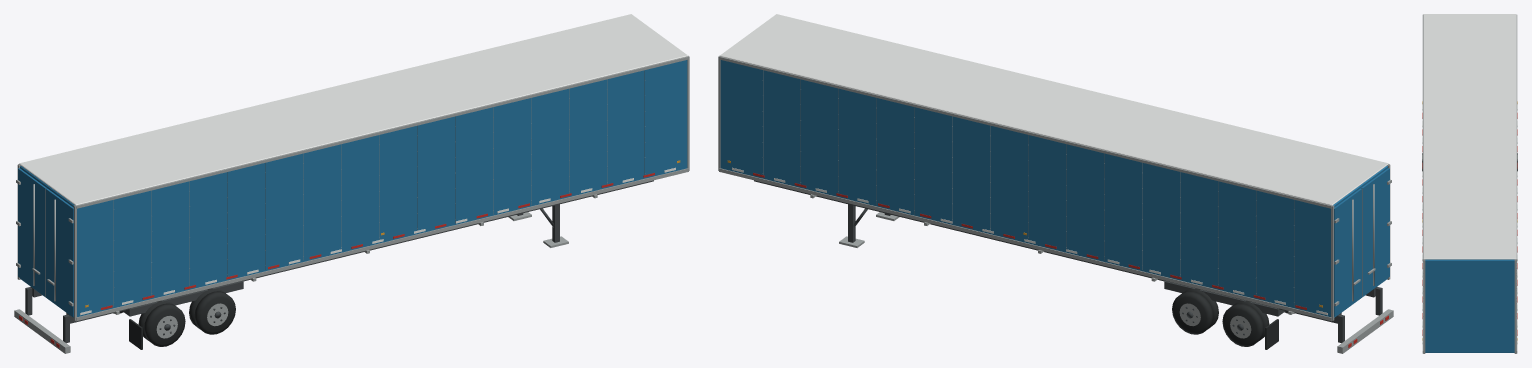
The model's file is SM_MPR3_Trailer_Blue.fbx.
The picture shows the model from 3 angles, left to right: view 1: azimuth 30°, elevation 25°; view 2: azimuth 150°, elevation 25°; view 3: azimuth 270°, elevation 25°; orthographic projection. The views are drawn at different scales.
Visible parts, largest first — view 1: SM_MPR3_Trailer_Blue; view 2: SM_MPR3_Trailer_Blue; view 3: SM_MPR3_Trailer_Blue.
Part boxes in pixels (x1=…): SM_MPR3_Trailer_Blue: x1=14, y1=14, x2=689, y2=353; SM_MPR3_Trailer_Blue: x1=718, y1=14, x2=1393, y2=353; SM_MPR3_Trailer_Blue: x1=1422, y1=14, x2=1517, y2=353.
Bounding box in the file's own units: 1639 × 267 × 417.
